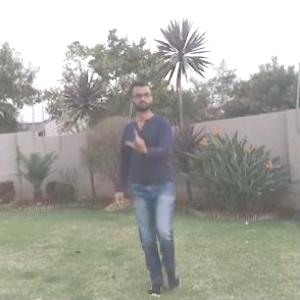land_hand: (123, 124, 154, 164)
